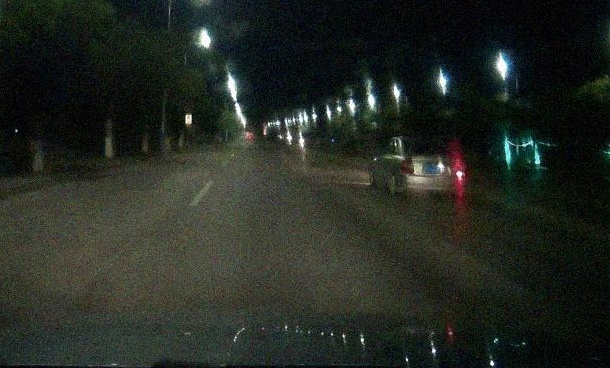L_light: (401, 161, 414, 174)
R_light: (452, 163, 464, 177)
T_light: (425, 140, 434, 144)
night-right: (399, 136, 465, 201)
